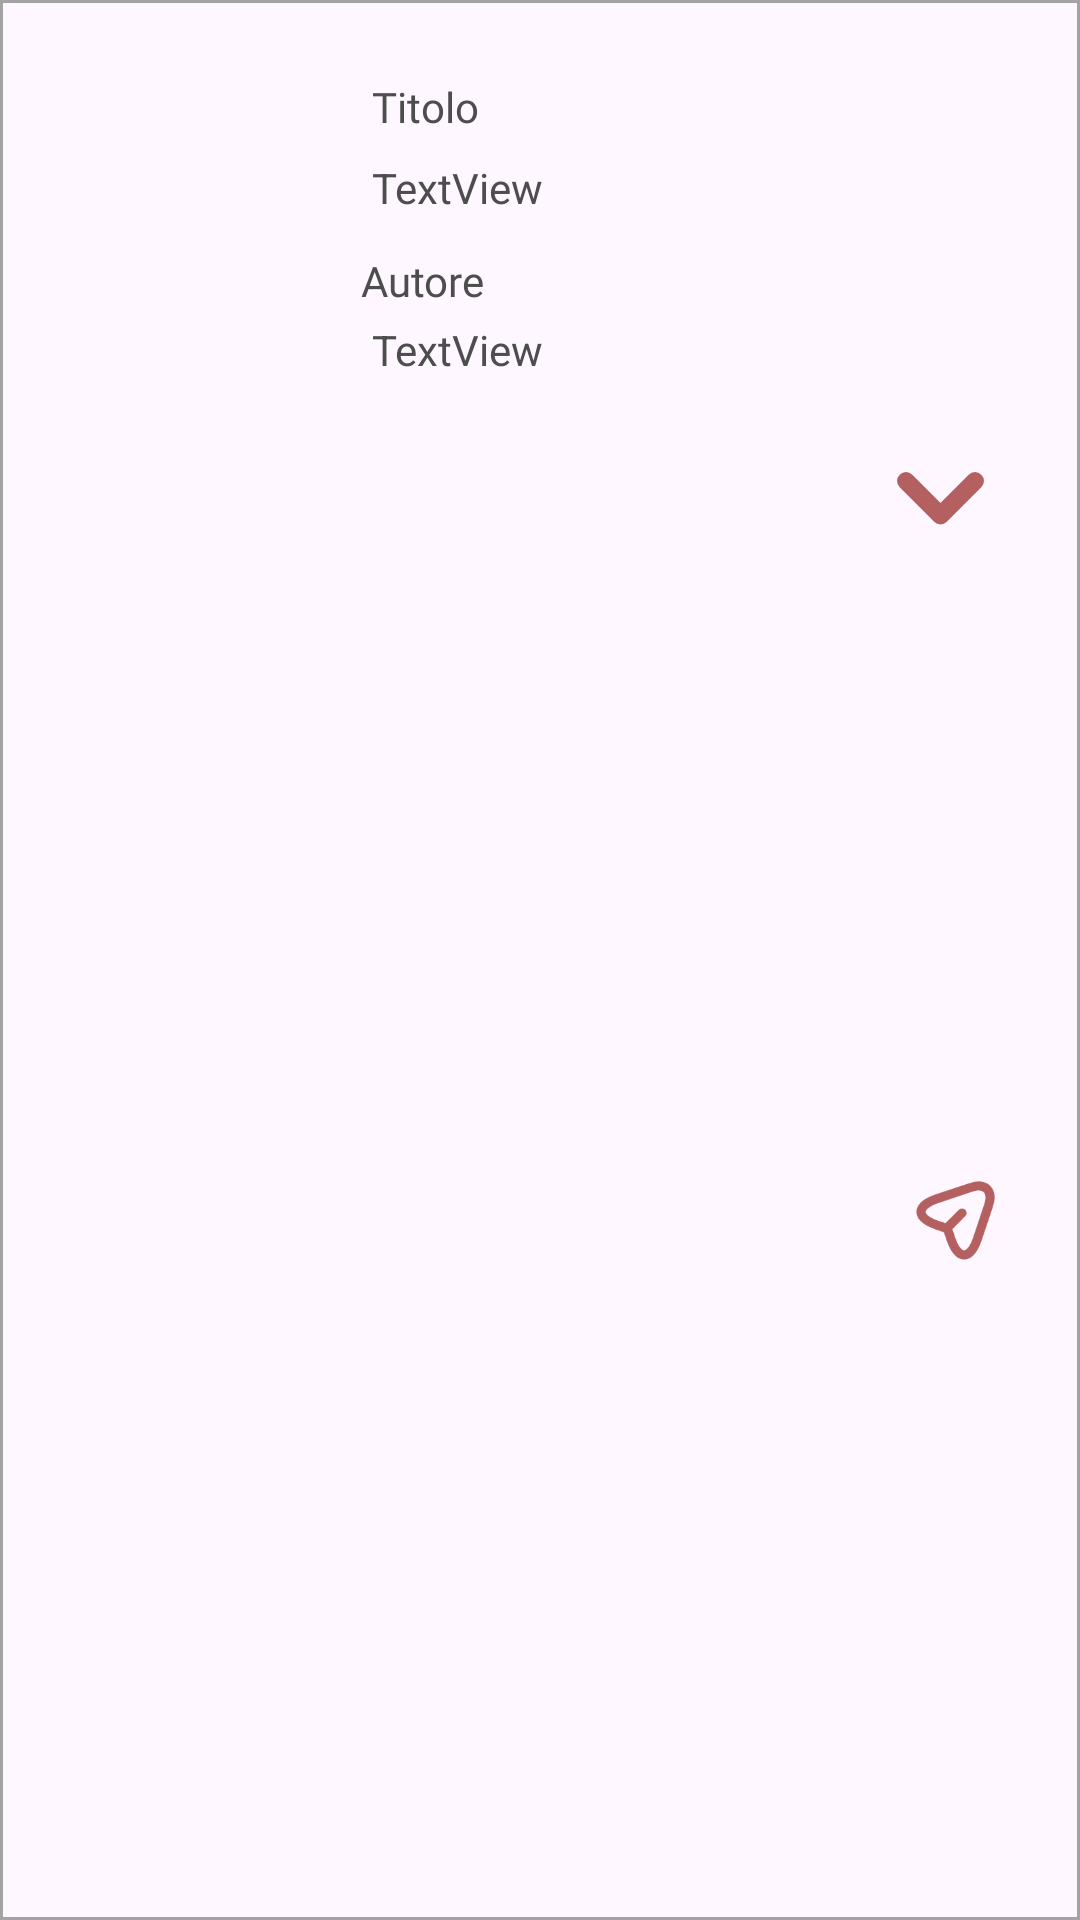

Where to tap for icons on this 1080px x 1920px app screen, as (x=x, y=y):
down: (x=940, y=498)
send: (x=955, y=1220)
